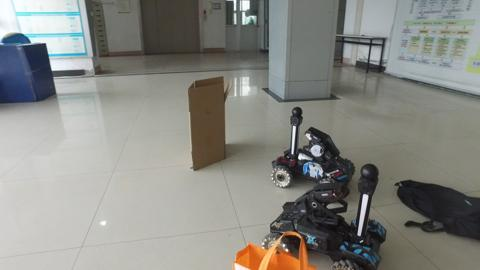box: (188, 78, 229, 166)
chariot: (263, 164, 391, 267), (272, 104, 352, 185)
